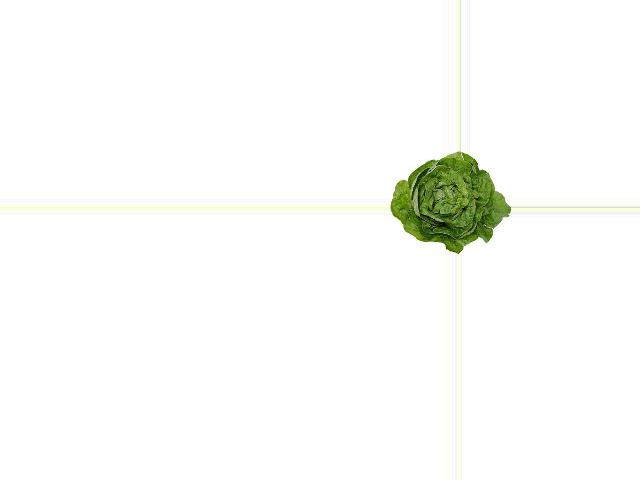lettuce: (389, 152, 507, 253)
